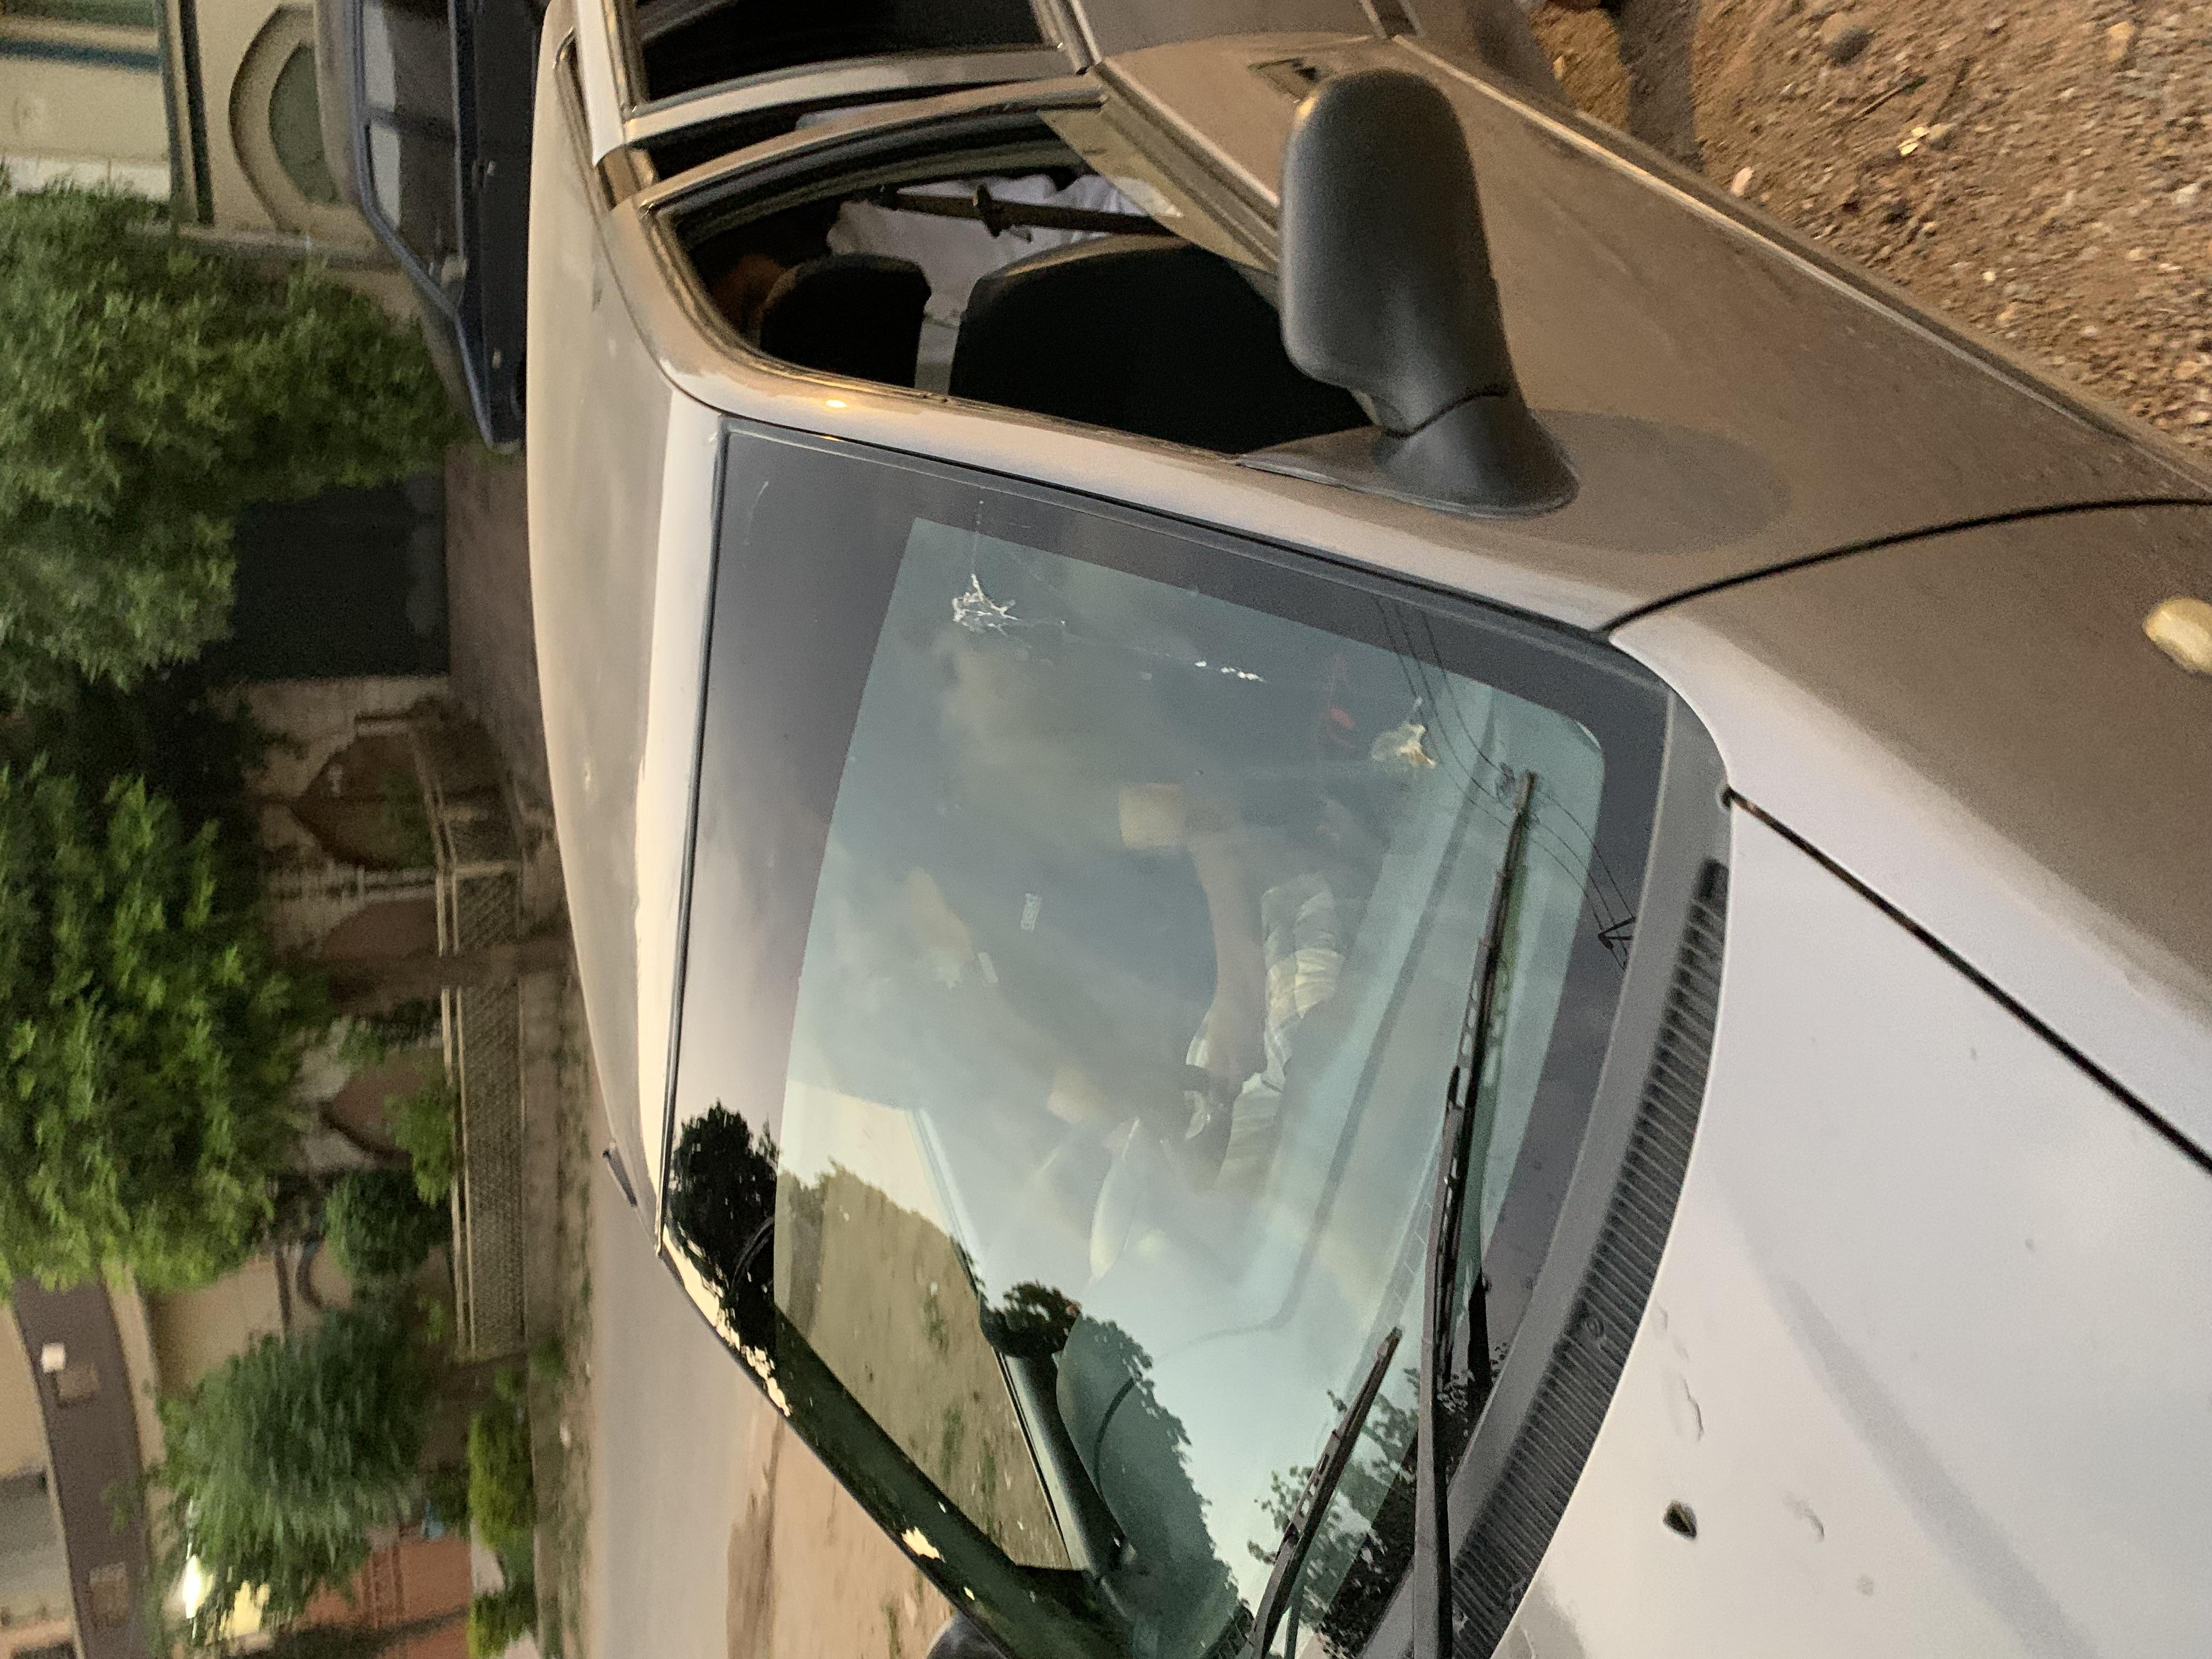windshield: (0, 474, 1705, 1337)
